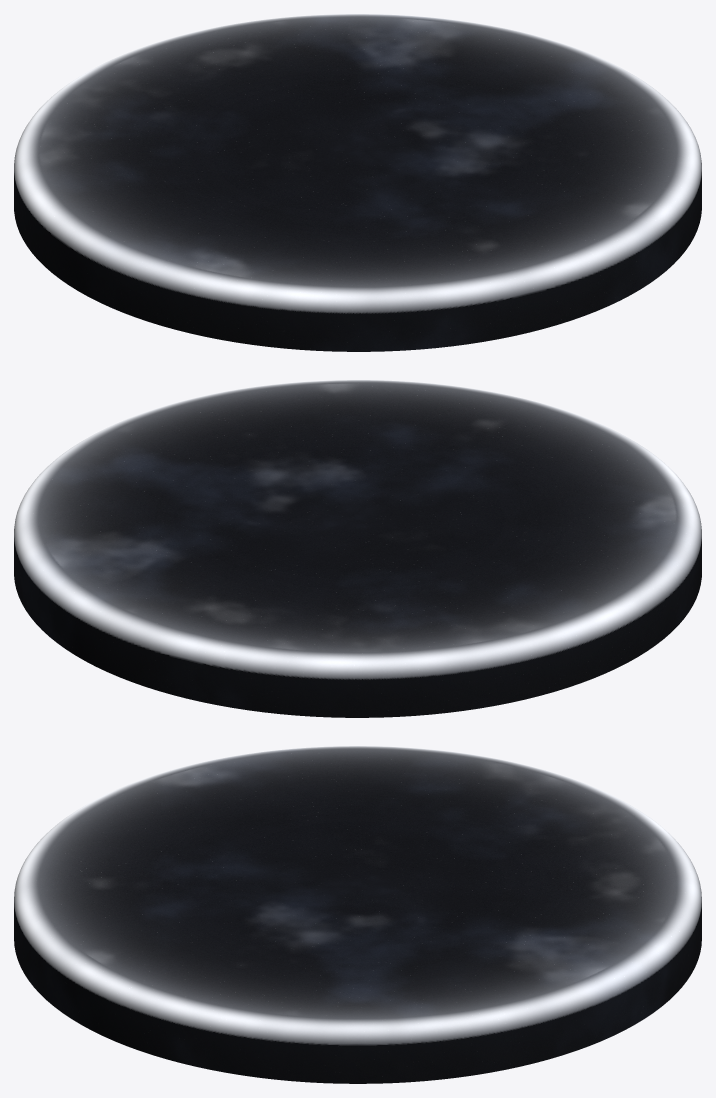
File: portalbase.glb
The picture shows the model from 3 angles, top to bottom: view 1: azimuth 30°, elevation 25°; view 2: azimuth 150°, elevation 25°; view 3: azimuth 270°, elevation 25°; orthographic projection.
Visible parts, largest first — view 1: portalbase; view 2: portalbase; view 3: portalbase.
Boxes of the visible parts, <box> form: portalbase: <box>14,14,701,351</box>; portalbase: <box>14,380,701,717</box>; portalbase: <box>14,746,701,1083</box>.
Size of the model in its own units: 4.8 by 0.42 by 4.8.
Materials: 1 (1 with a texture image).
